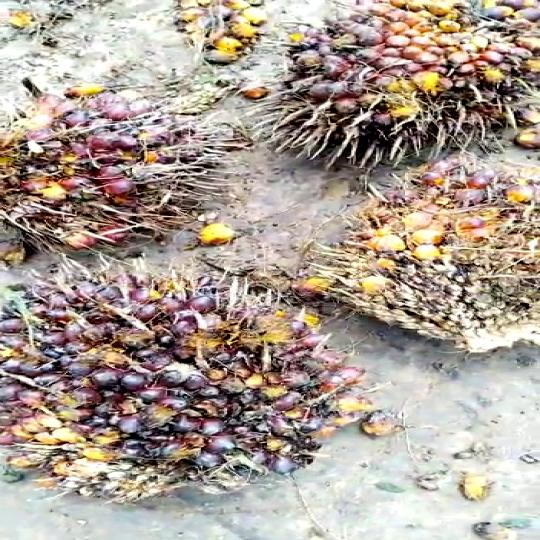masak: (0, 265, 362, 498), (222, 0, 540, 172), (267, 163, 540, 346), (0, 90, 233, 266)
